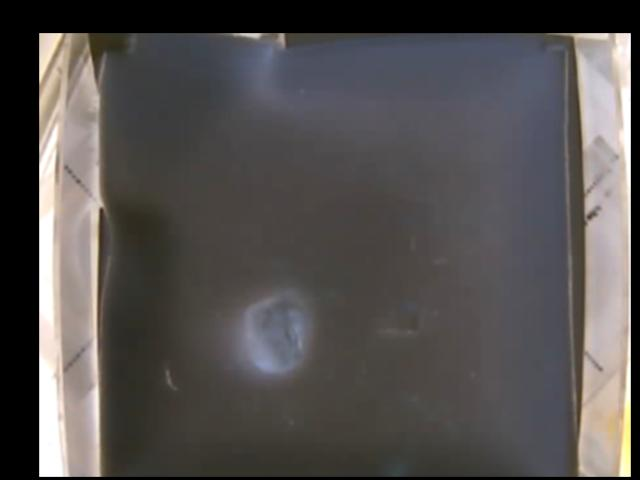Pebble: (243, 292, 307, 372)
